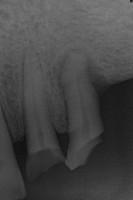Dental Caries: (55, 47, 111, 98)
